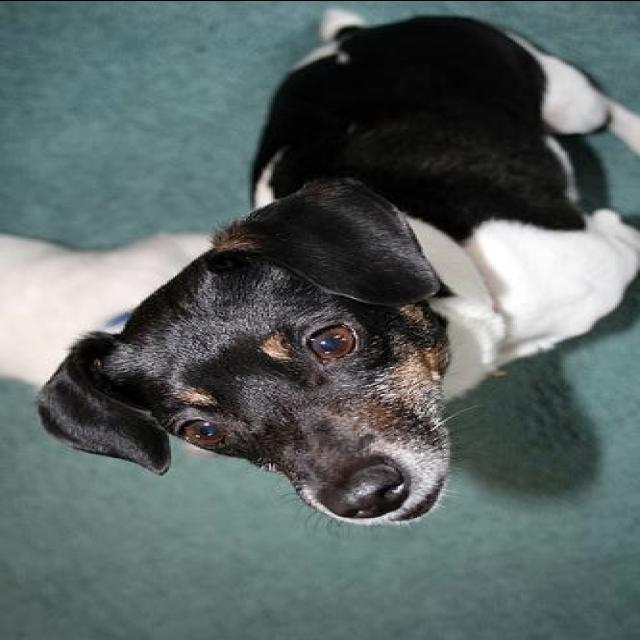toy_terrier: (31, 7, 638, 524)
